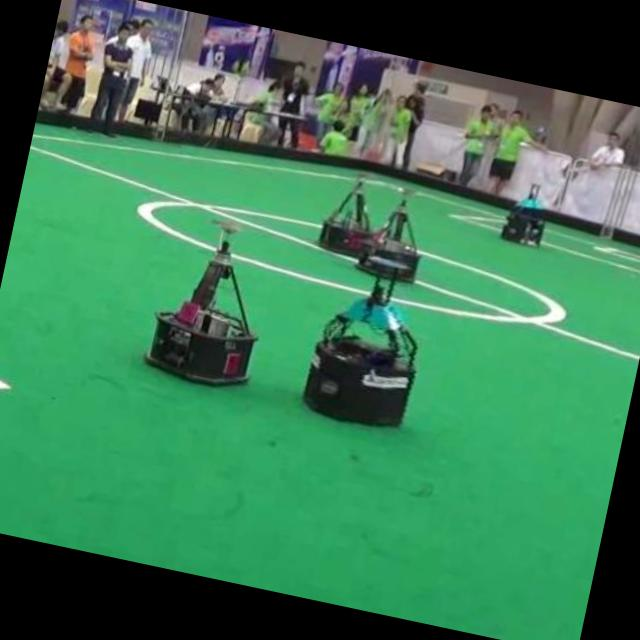robot: (303, 277, 417, 424), (144, 240, 255, 383), (356, 189, 419, 281), (318, 174, 371, 257), (500, 184, 545, 246)
